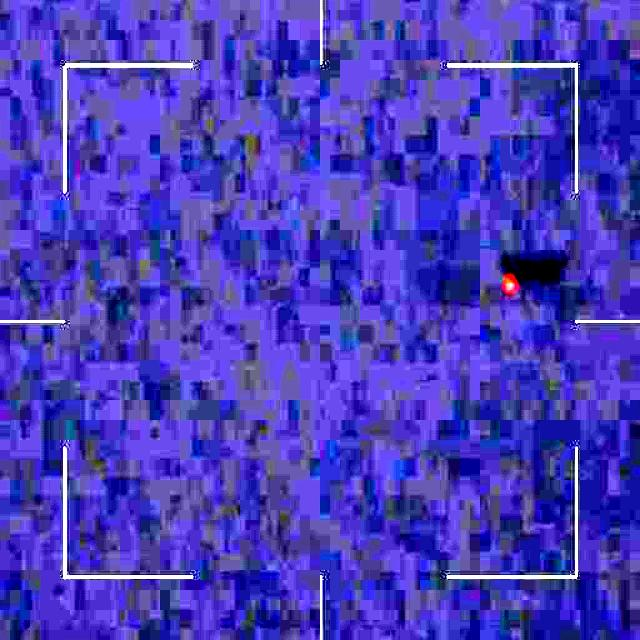bird: (502, 264, 530, 304)
